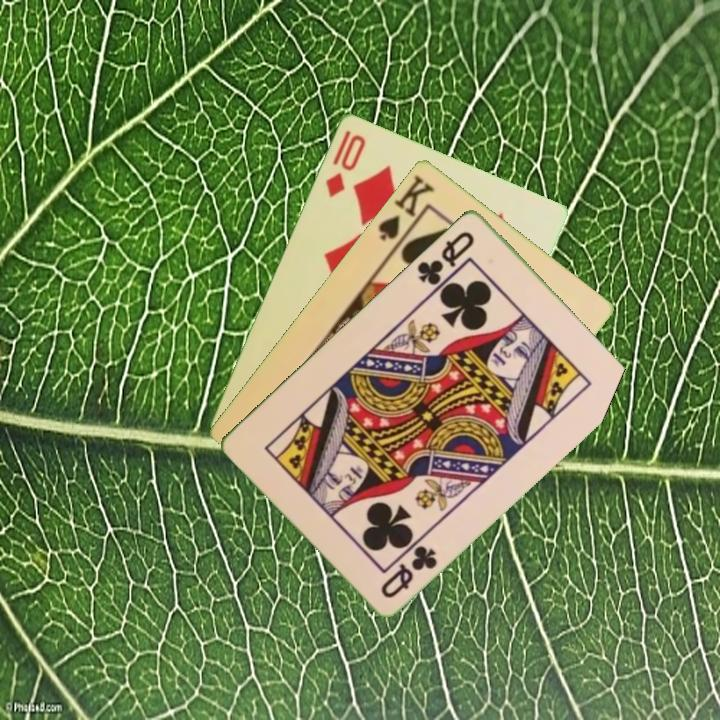10d: (321, 130, 369, 200)
Ks: (374, 170, 438, 243)
Qc: (413, 227, 477, 288), (377, 541, 440, 602)
